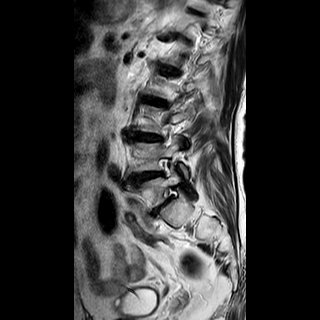LFS0: (154, 150, 178, 181), (160, 179, 187, 206)
